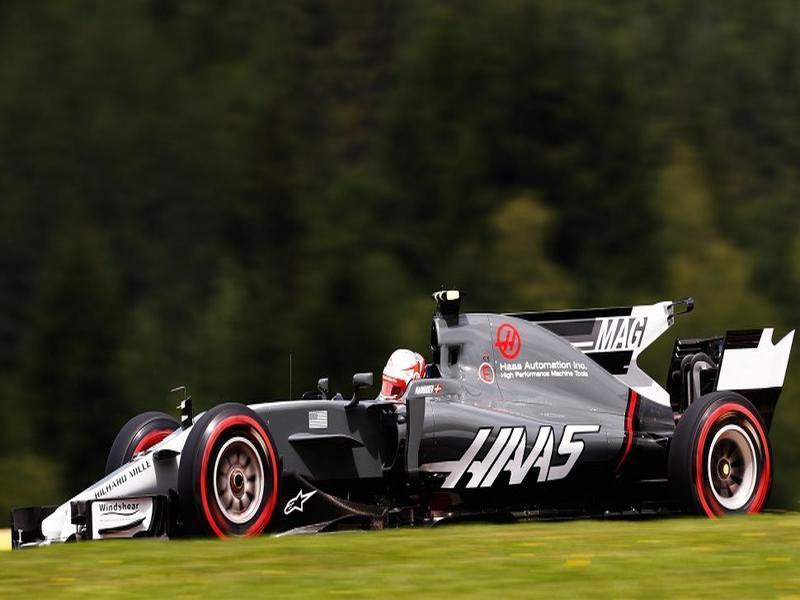f1: (48, 308, 799, 527)
